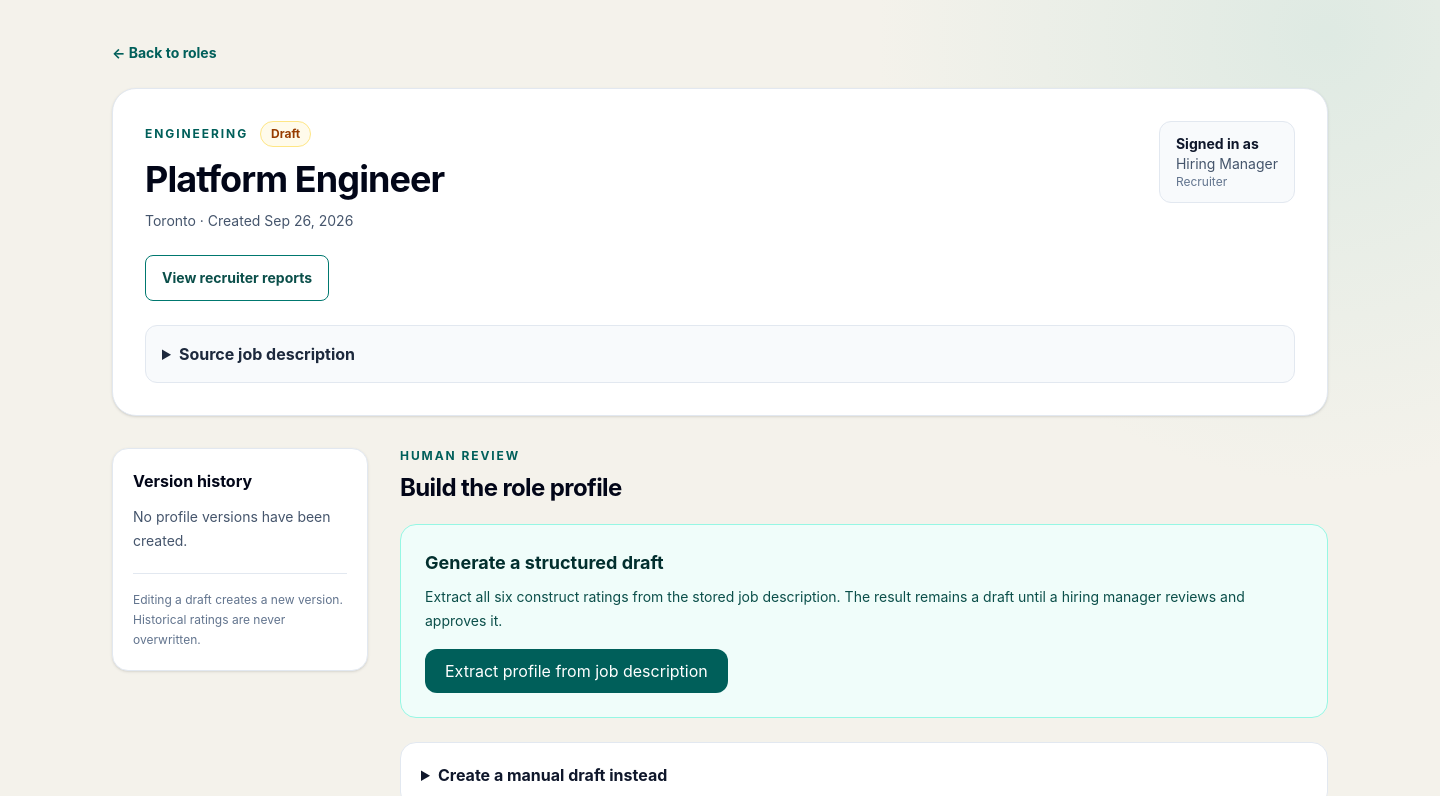
RoleProfileWorkspace › lets a recruiter extract a draft while keeping manager approval separate
Click the button "Extract profile from job description". click: [576, 671]
box: [425,649,728,693]
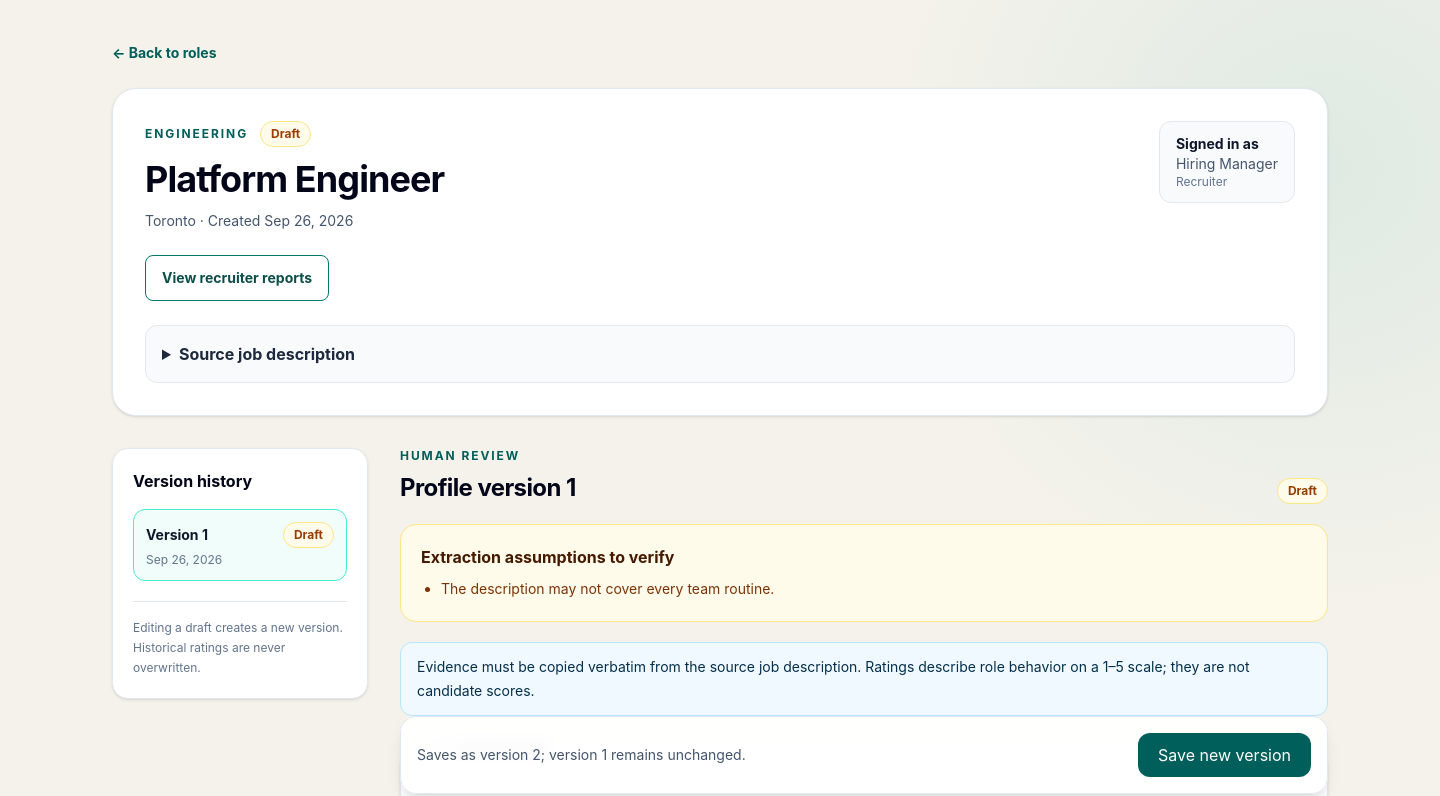
Now the heading "Extraction assumptions to verify" is shown, box [421,547,674,567]
